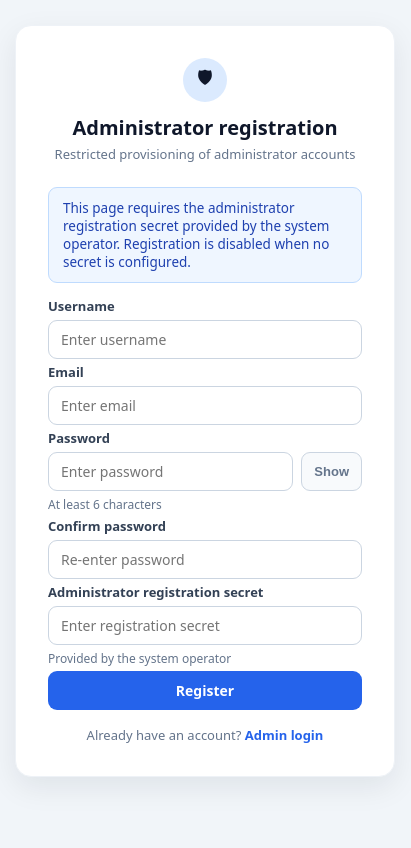
Test case: RegisterAdmin page › surfaces a rejected secret from the backend
The width and height of the screenshot is (411, 848).
In the field labelled "Username": (205, 340) x1=48 y1=320 x2=362 y2=359, type "New Admin"
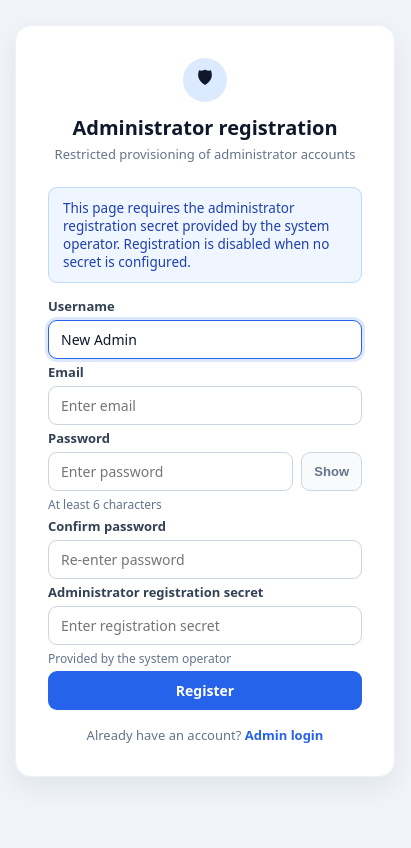
In the field labelled "Email": (205, 406) x1=48 y1=386 x2=362 y2=425, type "admin2@example.com"
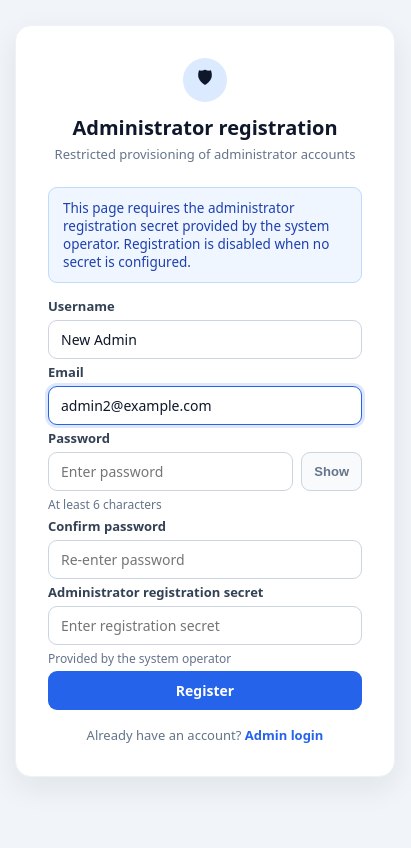
In the password field labelled "Password": (171, 472) x1=48 y1=452 x2=293 y2=491, type "adminpassword"
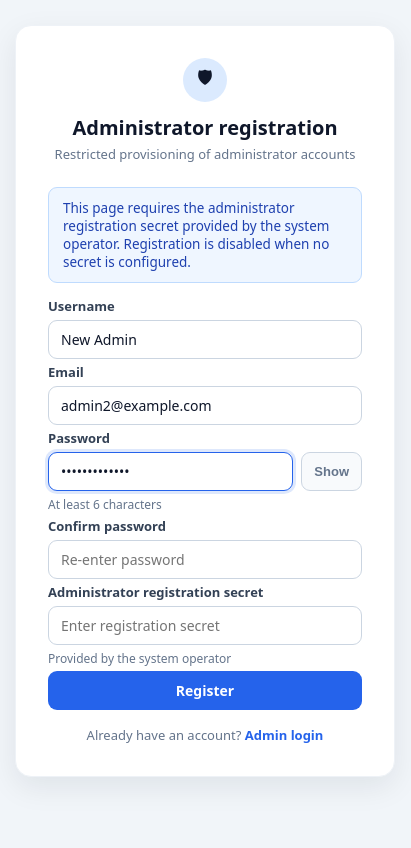
In the password field labelled "Confirm password": (205, 560) x1=48 y1=540 x2=362 y2=579, type "adminpassword"
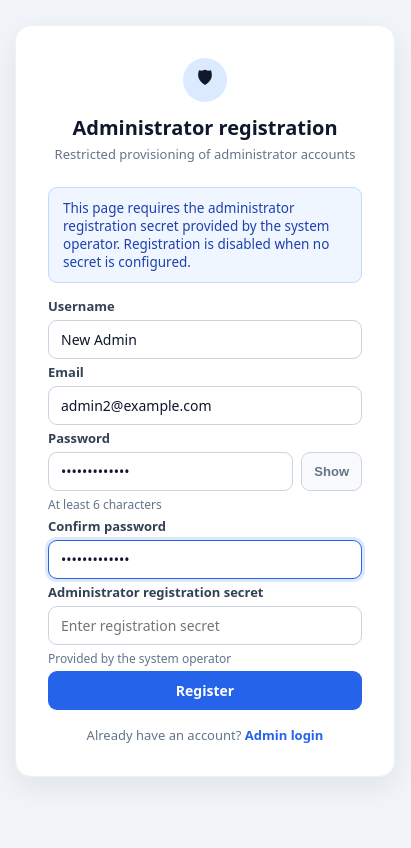
In the password field labelled "Administrator registration secret": (205, 626) x1=48 y1=606 x2=362 y2=645, type "test-admin-secret"
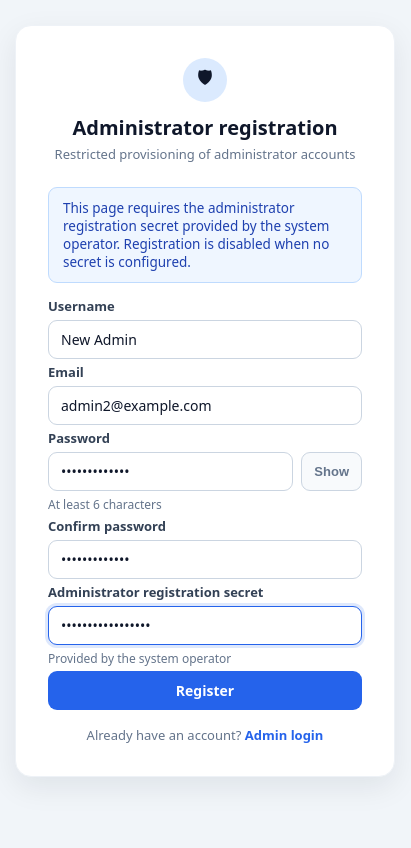
Click the button "Register": click(205, 690) x1=48 y1=671 x2=362 y2=710
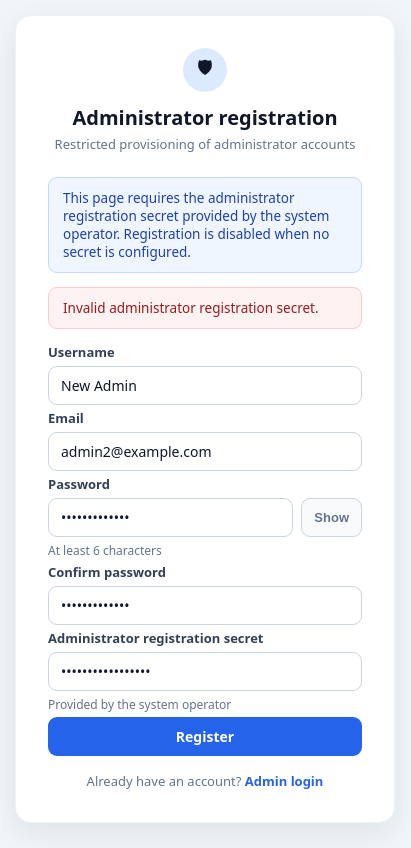
expect the text "Invalid administrator registration secret." is shown: met, box x1=48 y1=287 x2=362 y2=329
